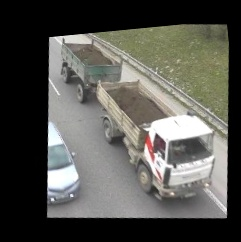truck: (45, 27, 234, 217)
